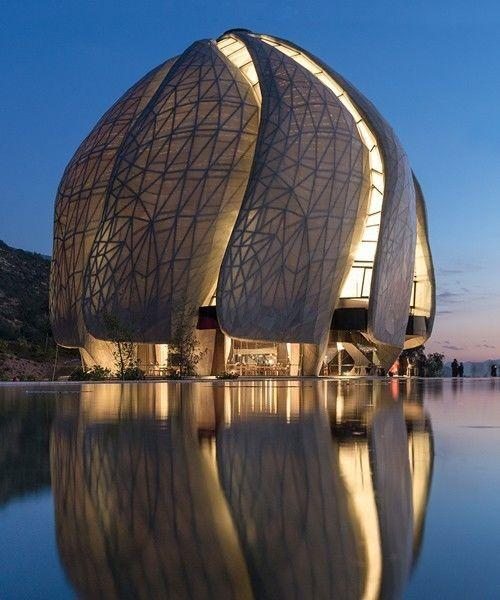buildings: (51, 69, 346, 367), (167, 62, 436, 364)
